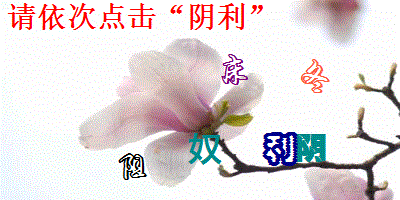result: (187, 2, 246, 31)
text: (260, 131, 296, 168), (187, 131, 222, 168), (299, 57, 332, 95), (218, 51, 249, 88), (294, 132, 328, 165), (117, 152, 149, 182)
